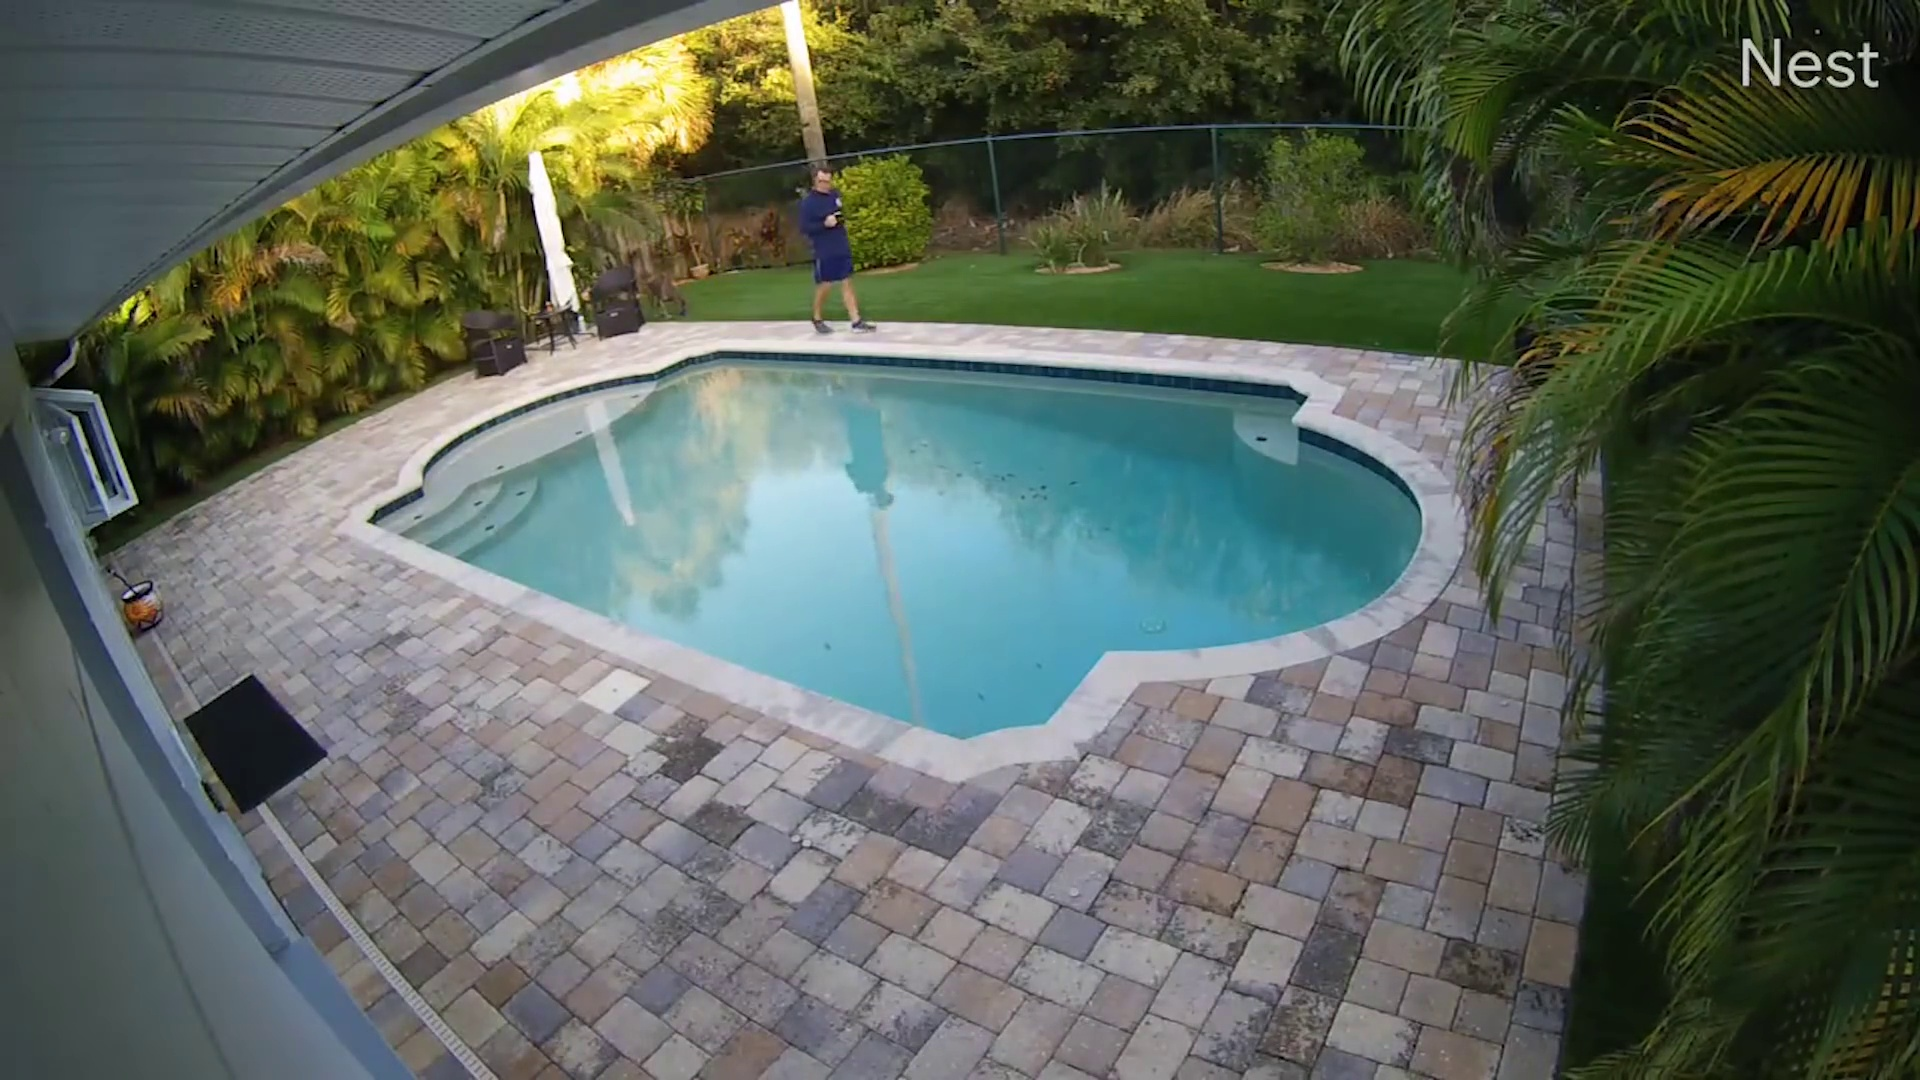face: (815, 173, 831, 190)
